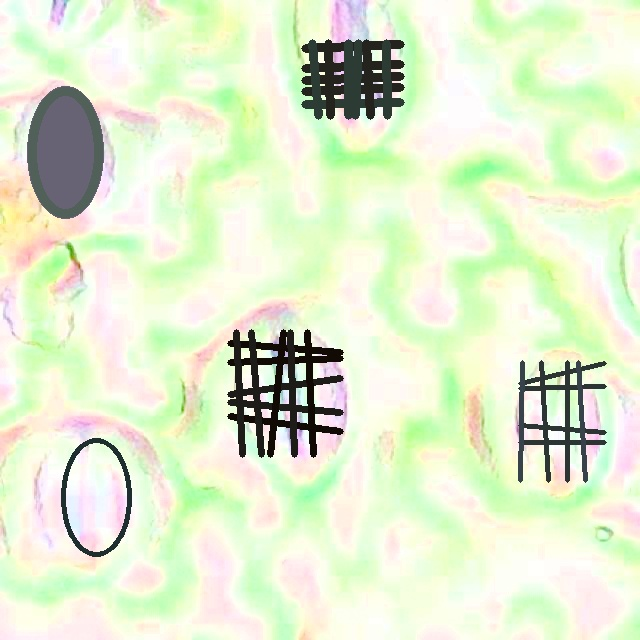close: (518, 361, 605, 481), (26, 86, 104, 217), (60, 437, 132, 557)
open: (227, 329, 342, 456), (301, 39, 404, 119)
